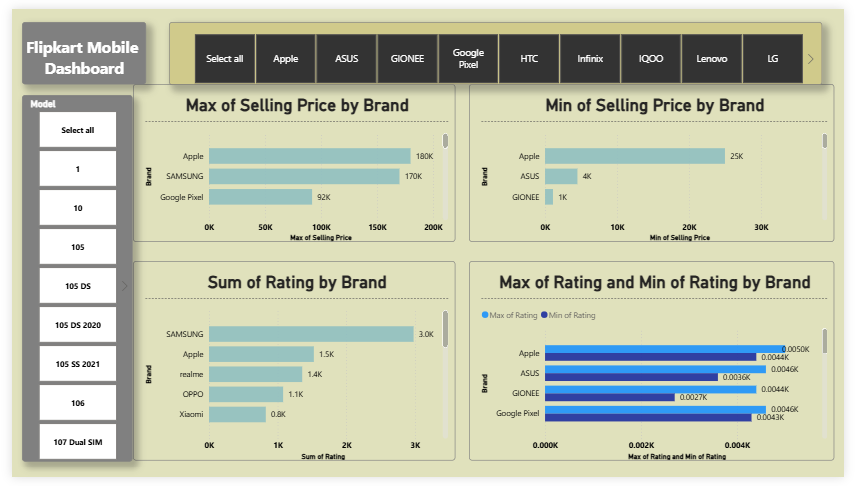

Layout of this report page (visuals, bound fields, positions):
{"tool":"powerbi","page":{"name":"Dashboard","canvas":[1280,720],"ordinal":5},"visuals":[{"type":"clusteredBarChart","fields":{"Category":["Flipkart_Mobiles.Brand"],"Y":["Sum(Flipkart_Mobiles.Rating)"]},"box":[185.5,388.4,495.6,307.2],"z":0},{"type":"clusteredBarChart","fields":{"Category":["Flipkart_Mobiles.Brand"],"Y":["Max(Flipkart_Mobiles.Rating)","Min(Flipkart_Mobiles.Rating)1"]},"box":[702.9,388.4,562.3,307.2],"z":1000},{"type":"barChart","fields":{"Category":["Flipkart_Mobiles.Brand"],"Y":["Max(Flipkart_Mobiles.Selling Price)"]},"box":[185.5,115.9,495.6,243.5],"z":2000},{"type":"clusteredBarChart","fields":{"Category":["Flipkart_Mobiles.Brand"],"Y":["Min(Flipkart_Mobiles.Selling Price)"]},"box":[702.9,115.9,562.3,243.5],"z":3000},{"type":"slicer","title":"Mobile Brand","fields":{"Values":["Flipkart_Mobiles.Brand"]},"box":[241.3,19.7,1004.7,96.5],"z":4000},{"type":"slicer","fields":{"Values":["Flipkart_Mobiles.Model"]},"box":[15.9,131.9,169.6,563.8],"z":5000},{"type":"textbox","box":[15.9,20.3,191.3,95.7],"z":6000}]}

Visuals, with their boxes in screenshot pixels (x1, y1, x2, y2), scaled from the page's 1280x720 canvas onto the 862x486 screenshot:
clusteredBarChart - Flipkart_Mobiles.Brand x Sum(Flipkart_Mobiles.Rating): 125,262,459,470
clusteredBarChart - Flipkart_Mobiles.Brand x Max(Flipkart_Mobiles.Rating): 473,262,852,470
barChart - Flipkart_Mobiles.Brand x Max(Flipkart_Mobiles.Selling Price): 125,78,459,243
clusteredBarChart - Flipkart_Mobiles.Brand x Min(Flipkart_Mobiles.Selling Price): 473,78,852,243
"Mobile Brand" slicer: 163,13,839,78
slicer - Flipkart_Mobiles.Model: 11,89,125,470
textbox: 11,14,140,78
